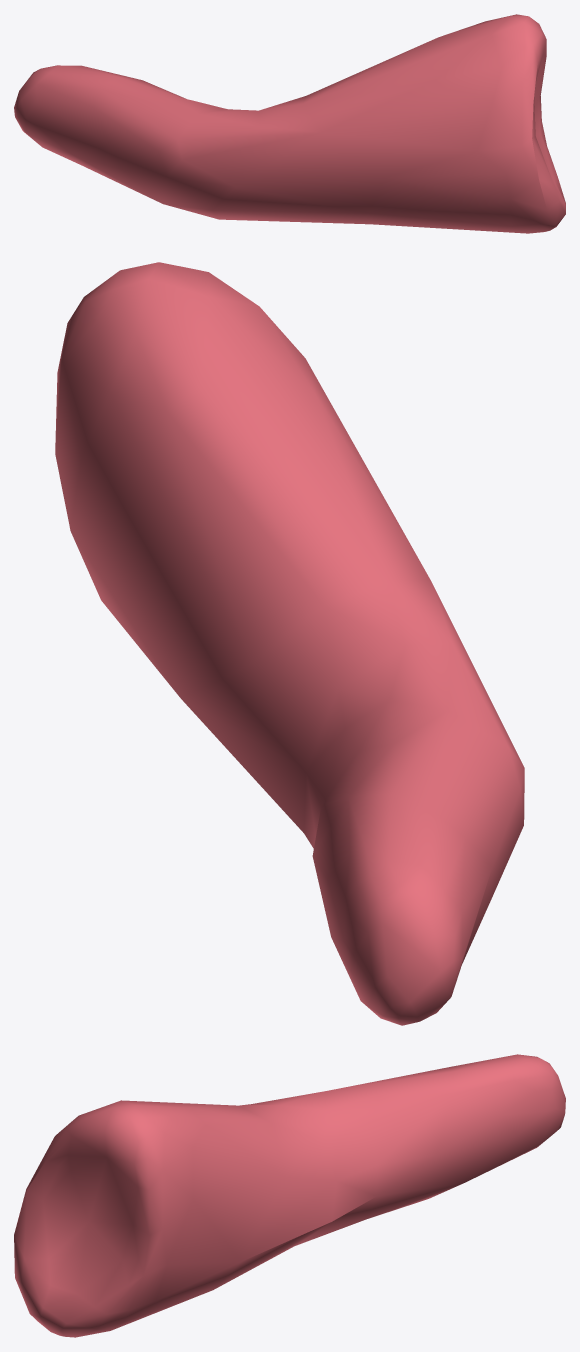
The model's file is fma14335_fj3577.glb.
The picture shows the model from 3 angles, top to bottom: view 1: azimuth 30°, elevation 25°; view 2: azimuth 150°, elevation 25°; view 3: azimuth 270°, elevation 25°; orthographic projection. The views are drawn at different scales.
Visible parts, largest first — view 1: FMA14335_FJ3577; view 2: FMA14335_FJ3577; view 3: FMA14335_FJ3577.
Boxes of the visible parts, x1,y1,x2,y2 form: FMA14335_FJ3577: (14,14,565,233); FMA14335_FJ3577: (55,262,524,1025); FMA14335_FJ3577: (14,1054,565,1337).
Bounding box in the file's own units: 0.0224 × 0.0121 × 0.025.
